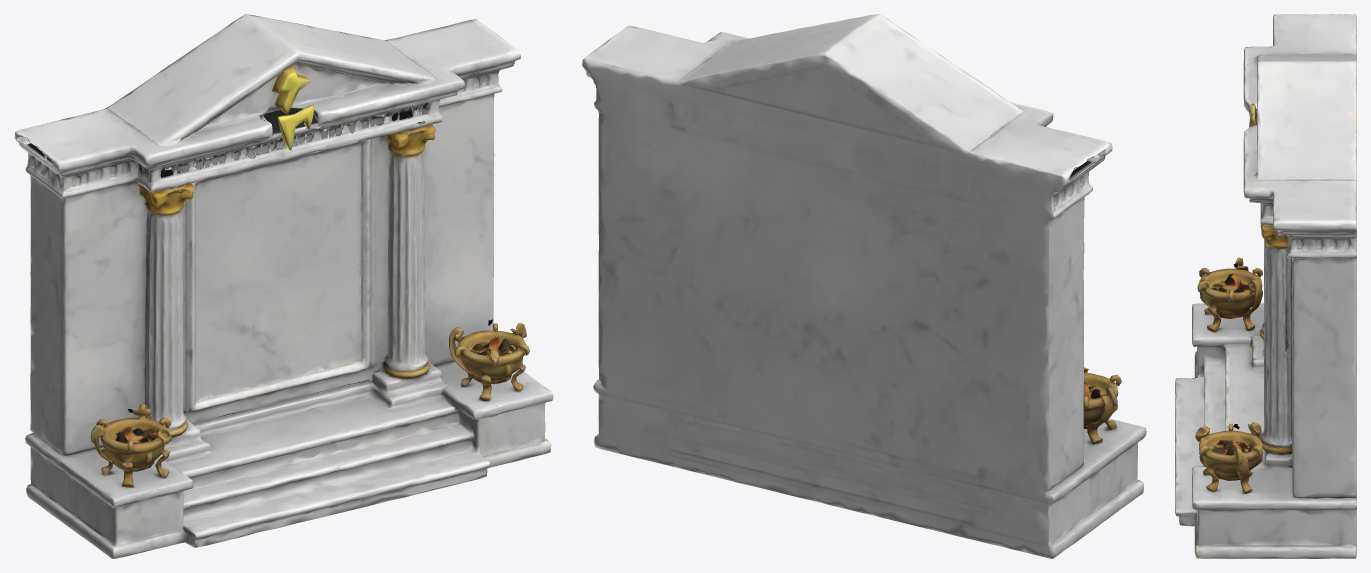
The model's file is civic_founders-wall.glb.
The picture shows the model from 3 angles, left to right: view 1: azimuth 30°, elevation 25°; view 2: azimuth 150°, elevation 25°; view 3: azimuth 270°, elevation 25°; orthographic projection. The views are drawn at different scales.
Visible parts, largest first — view 1: geometry_0; view 2: geometry_0; view 3: geometry_0.
Boxes of the visible parts, x1,y1,x2,y2 form: geometry_0: [14, 14, 553, 558]; geometry_0: [582, 14, 1146, 558]; geometry_0: [1175, 14, 1356, 558].
Size of the model in its own units: 6.76 by 6 by 2.48.
Materials: 1 (1 with a texture image).
